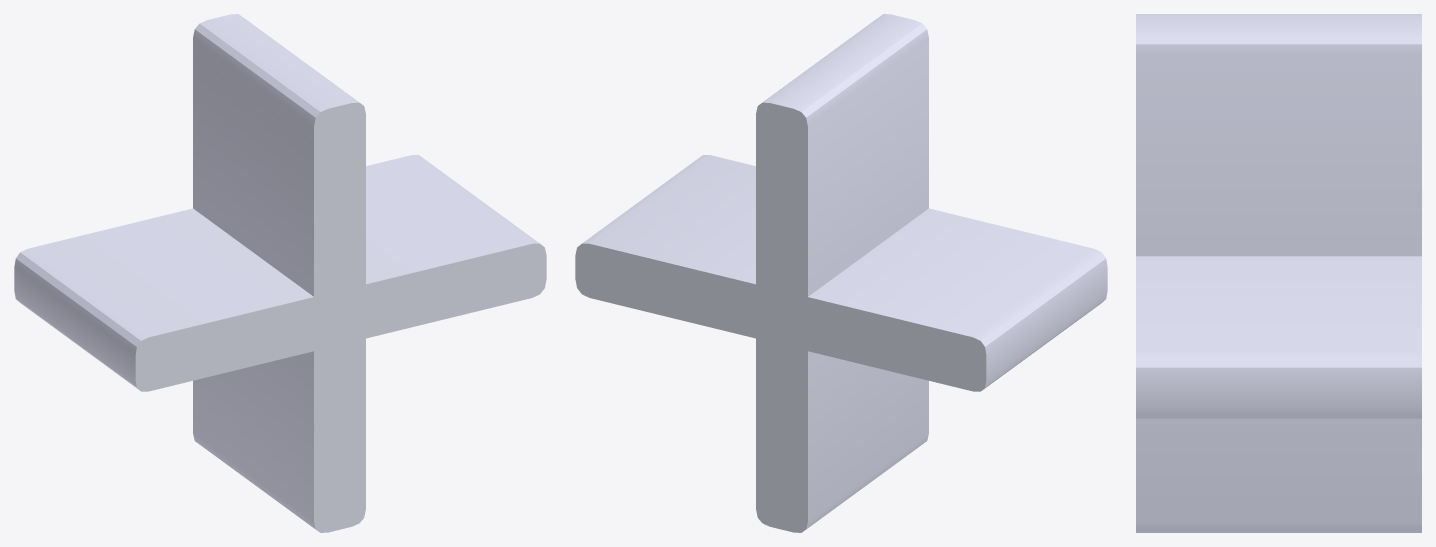
File: 57d78fae-f5cb-4e61-b51a-e333dea49f1f.glb
3 views of the same model, side by side, from view 1: azimuth 30°, elevation 25°; view 2: azimuth 150°, elevation 25°; view 3: azimuth 270°, elevation 25° (orthographic). The views are drawn at different scales.
Parts seen in each view (by area): view 1: +_Soul_Grey; view 2: +_Soul_Grey; view 3: +_Soul_Grey.
Part boxes in pixels (bbox=[...]): +_Soul_Grey: bbox=[14, 14, 546, 532]; +_Soul_Grey: bbox=[575, 14, 1107, 532]; +_Soul_Grey: bbox=[1136, 14, 1421, 532].
Size of what is drawn, in the model's own units: 0.0882 by 0.0869 by 0.045.
Materials: 2 (2 with a texture image).
